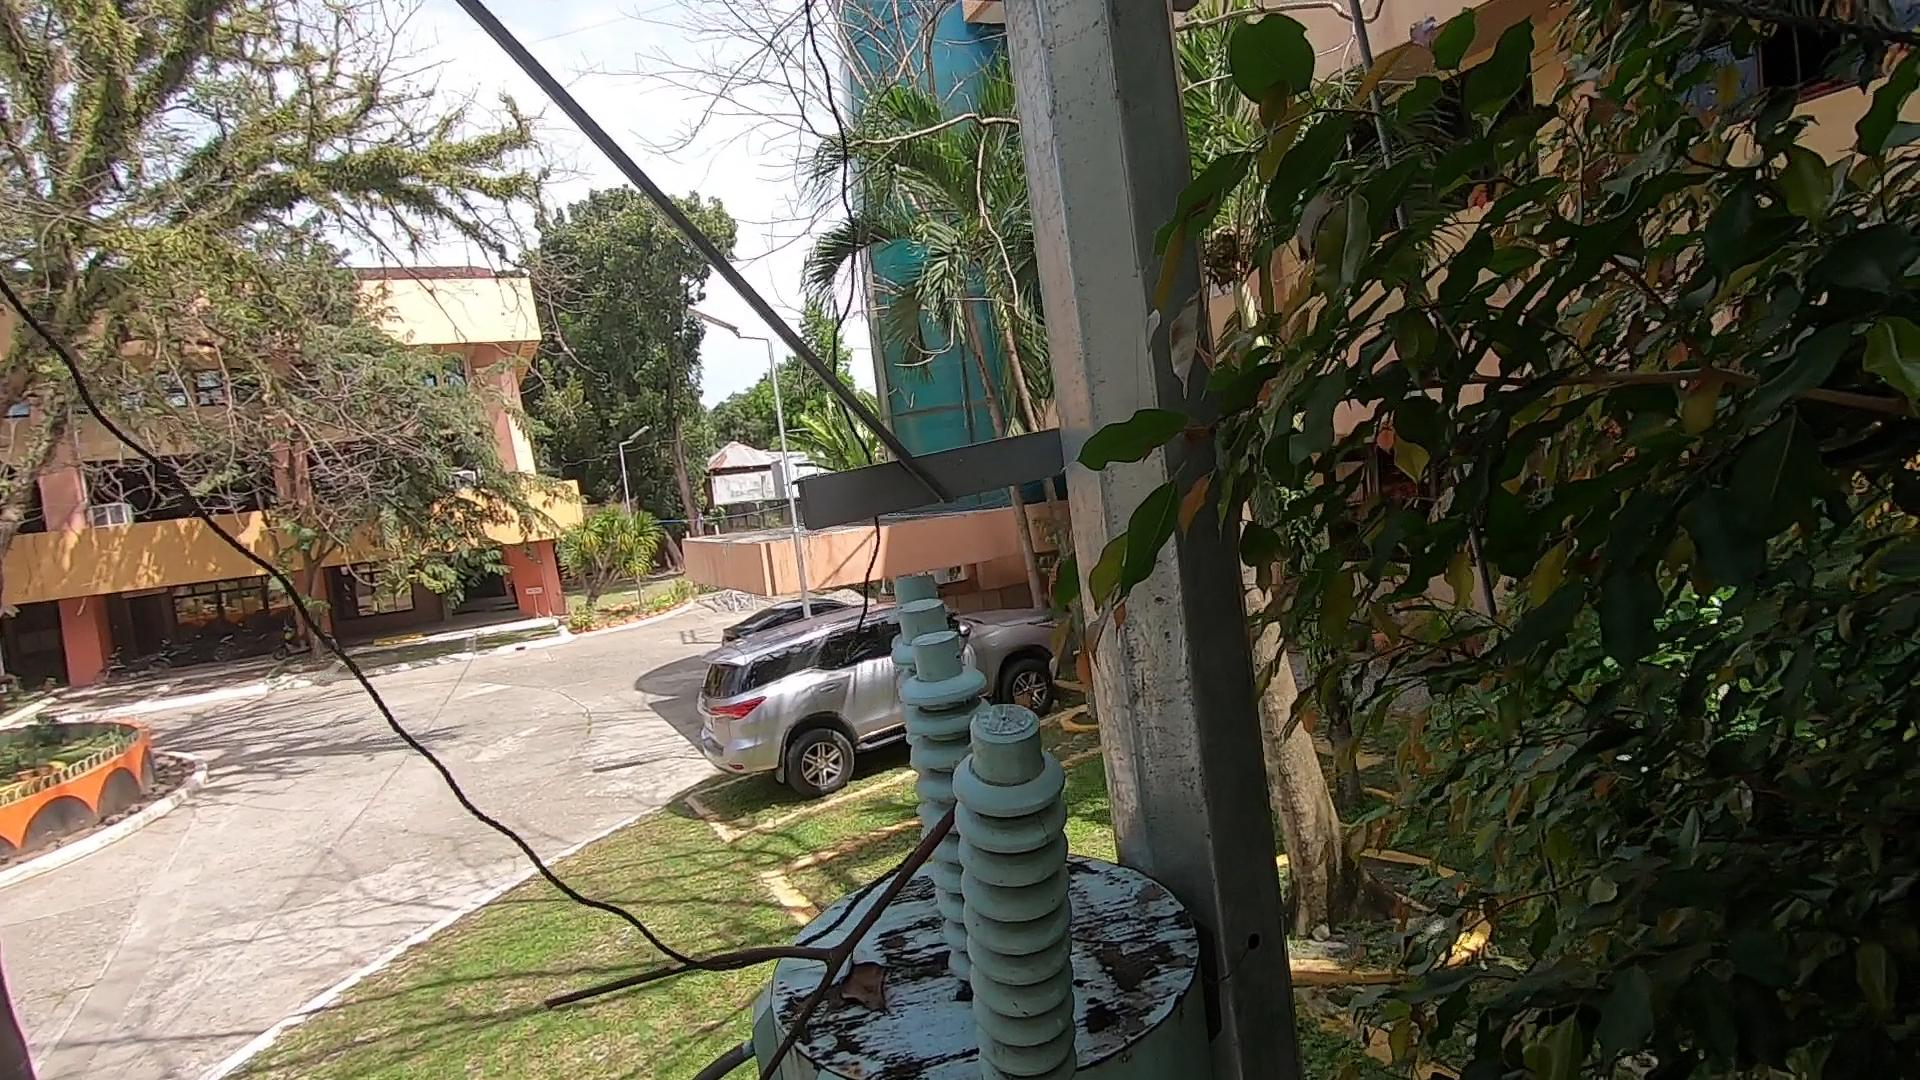leaf: (835, 952, 901, 1021)
tree branch: (517, 735, 993, 1080)
